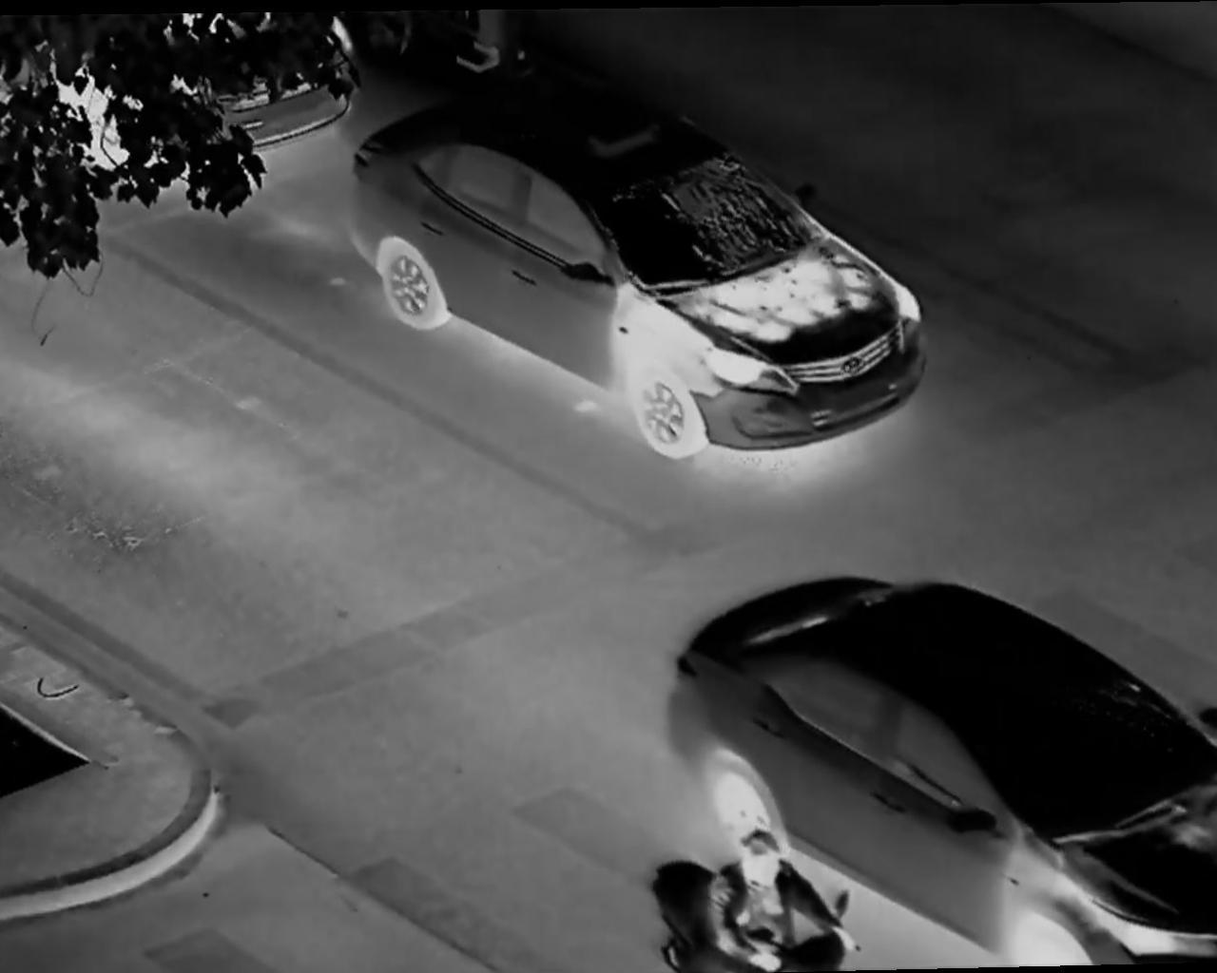person: (698, 824, 810, 962)
